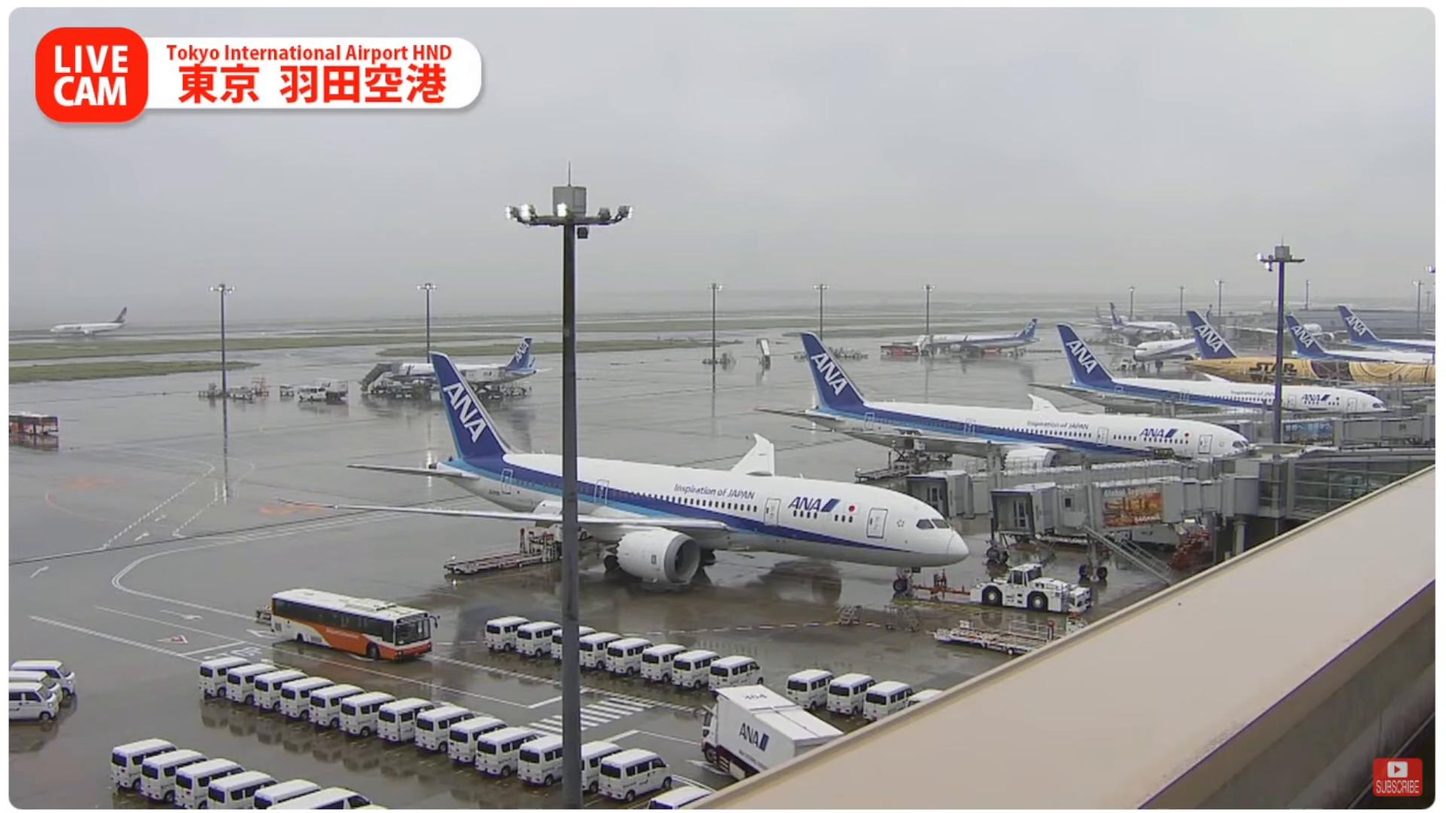APS: (968, 562, 1094, 614)
Aerobridge: (904, 455, 1210, 520), (991, 474, 1261, 535)
Airplane: (270, 351, 970, 592)
JCPL: (924, 615, 1087, 656), (441, 524, 562, 576)
Window: (1292, 458, 1433, 516)
